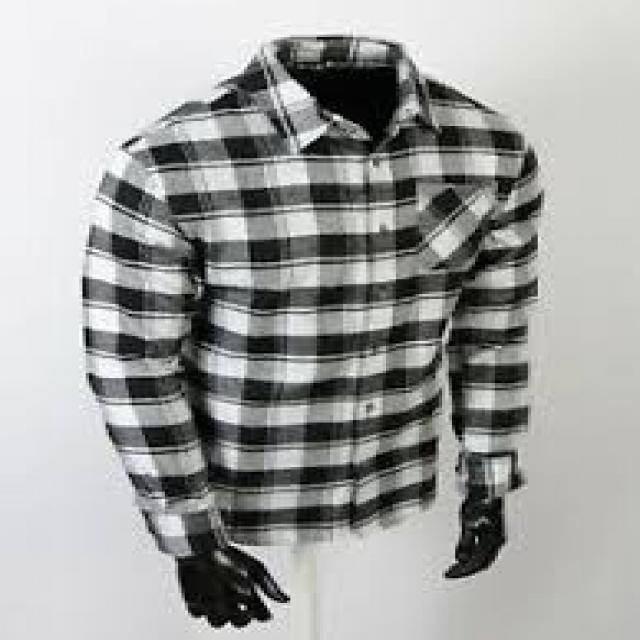plaid: (89, 28, 548, 528)
